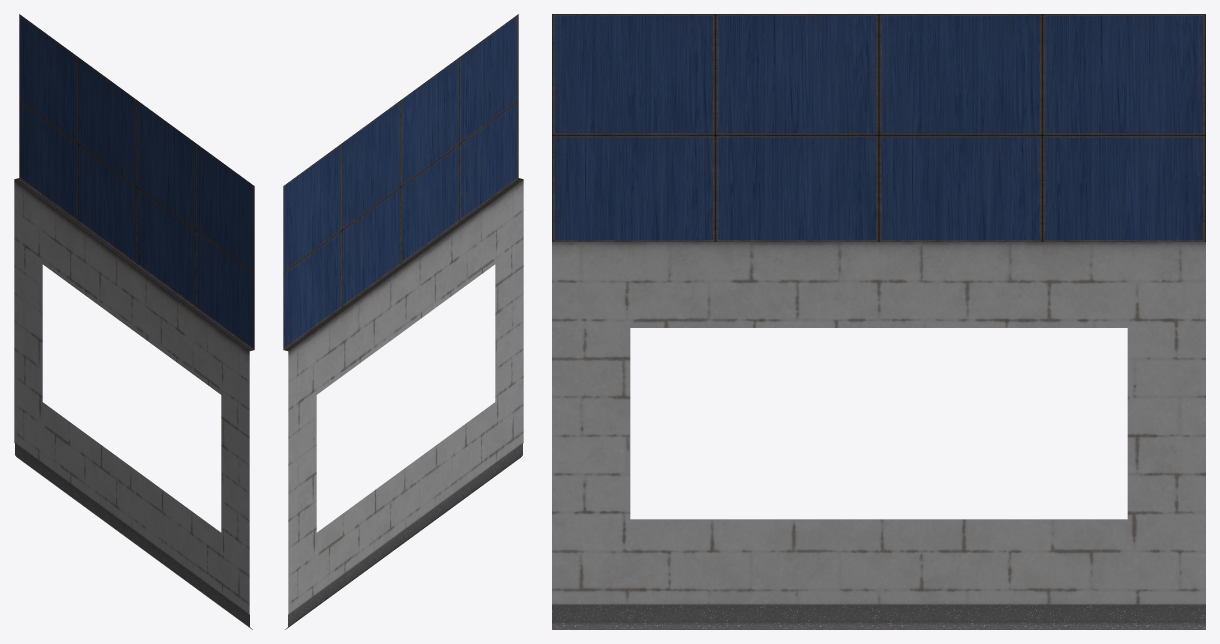
The model's file is Cafateria 4M Window F.fbx.
3 views of the same model, side by side, from view 1: azimuth 30°, elevation 25°; view 2: azimuth 150°, elevation 25°; view 3: azimuth 270°, elevation 25° (orthographic). The views are drawn at different scales.
Parts seen in each view (by area): view 1: Cafateria_4M_Window_F; view 2: Cafateria_4M_Window_F; view 3: Cafateria_4M_Window_F.
Part boxes in pixels (x1,y1,x2,y2): Cafateria_4M_Window_F: [14, 14, 254, 629]; Cafateria_4M_Window_F: [283, 14, 523, 629]; Cafateria_4M_Window_F: [552, 14, 1205, 629].
Size of the model in its own units: 5 by 416 by 400.
